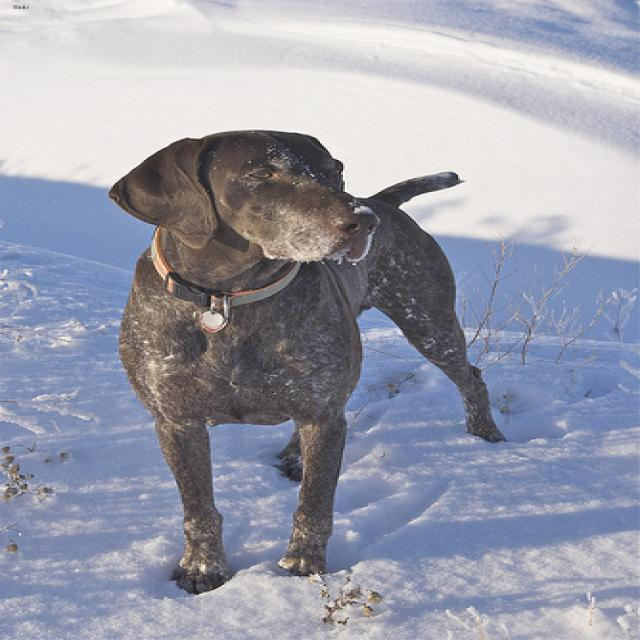dog-german_shorthaired: (94, 123, 527, 602)
